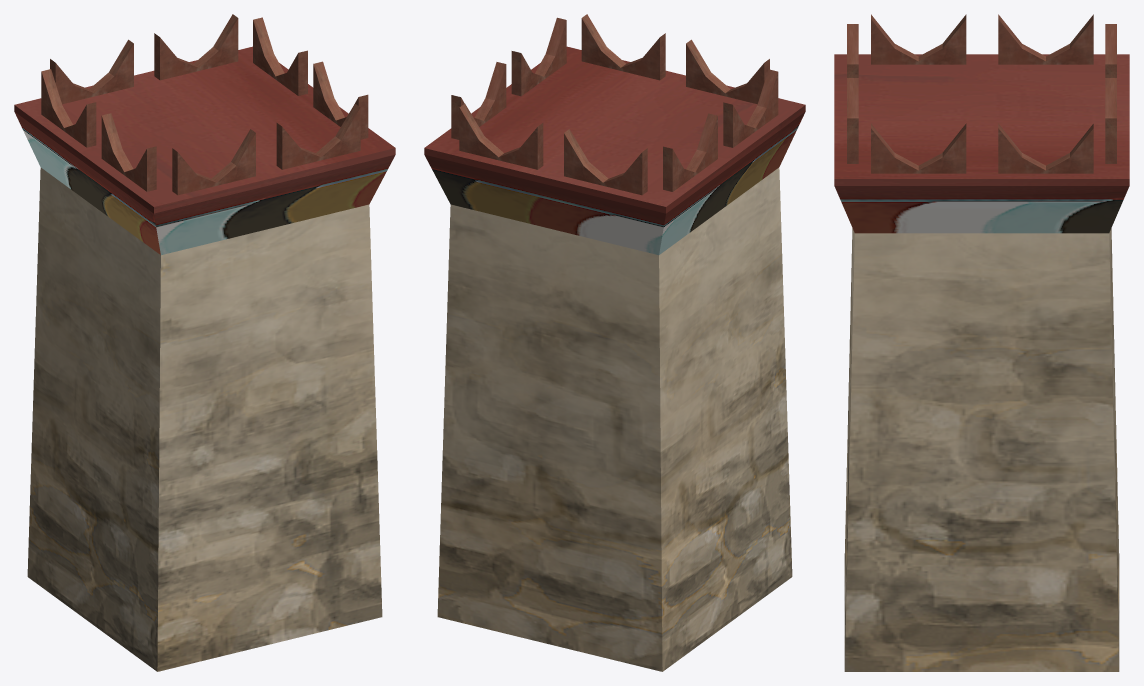
Rendered from wall_tower.dae.
3 views of the same model, side by side, from view 1: azimuth 30°, elevation 25°; view 2: azimuth 150°, elevation 25°; view 3: azimuth 270°, elevation 25° (orthographic). The views are drawn at different scales.
Parts seen in each view (by area): view 1: E_tower; view 2: E_tower; view 3: E_tower.
Part boxes in pixels (x1,y1,x2,y2): E_tower: (14, 14, 395, 671); E_tower: (424, 14, 805, 671); E_tower: (834, 14, 1129, 671).
Bounding box in the file's own units: 7.78 × 7.78 × 15.8.
